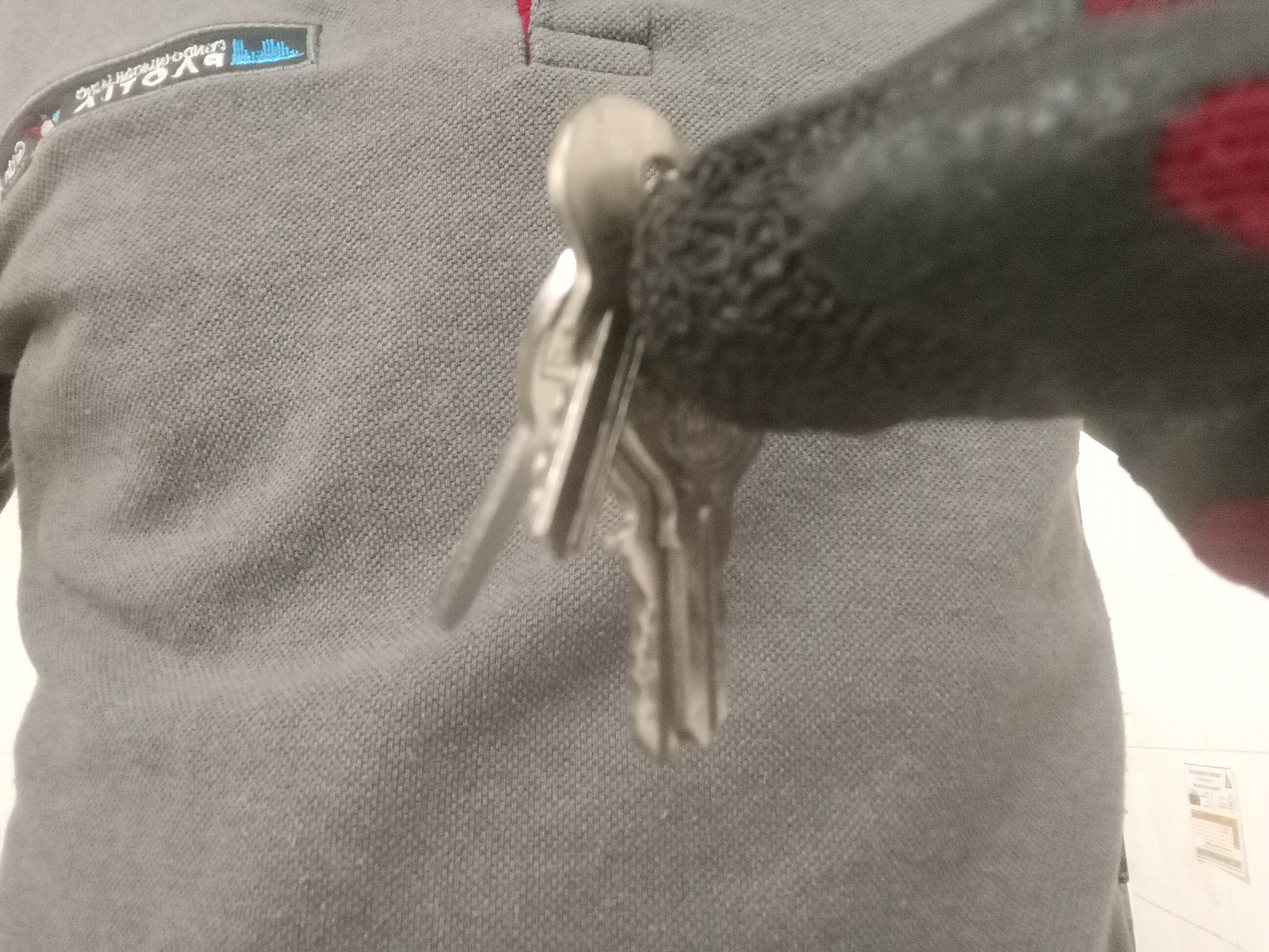Metal: (429, 92, 762, 761)
